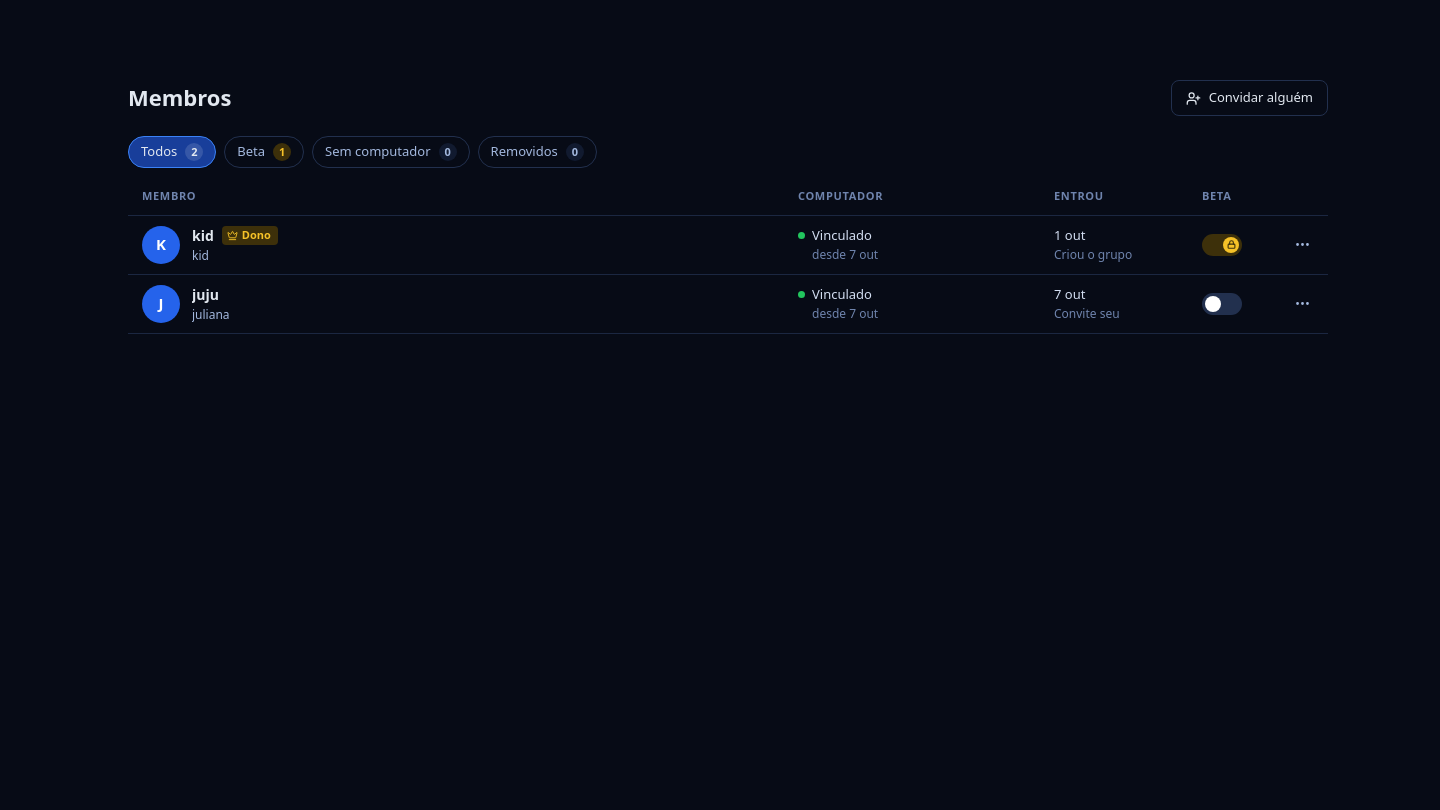
ações do membro › no dono não tem chave: só o selo
Click the button with aria-label "Detalhes de kid" at {"x": 161, "y": 244}, box [142,226,782,264]
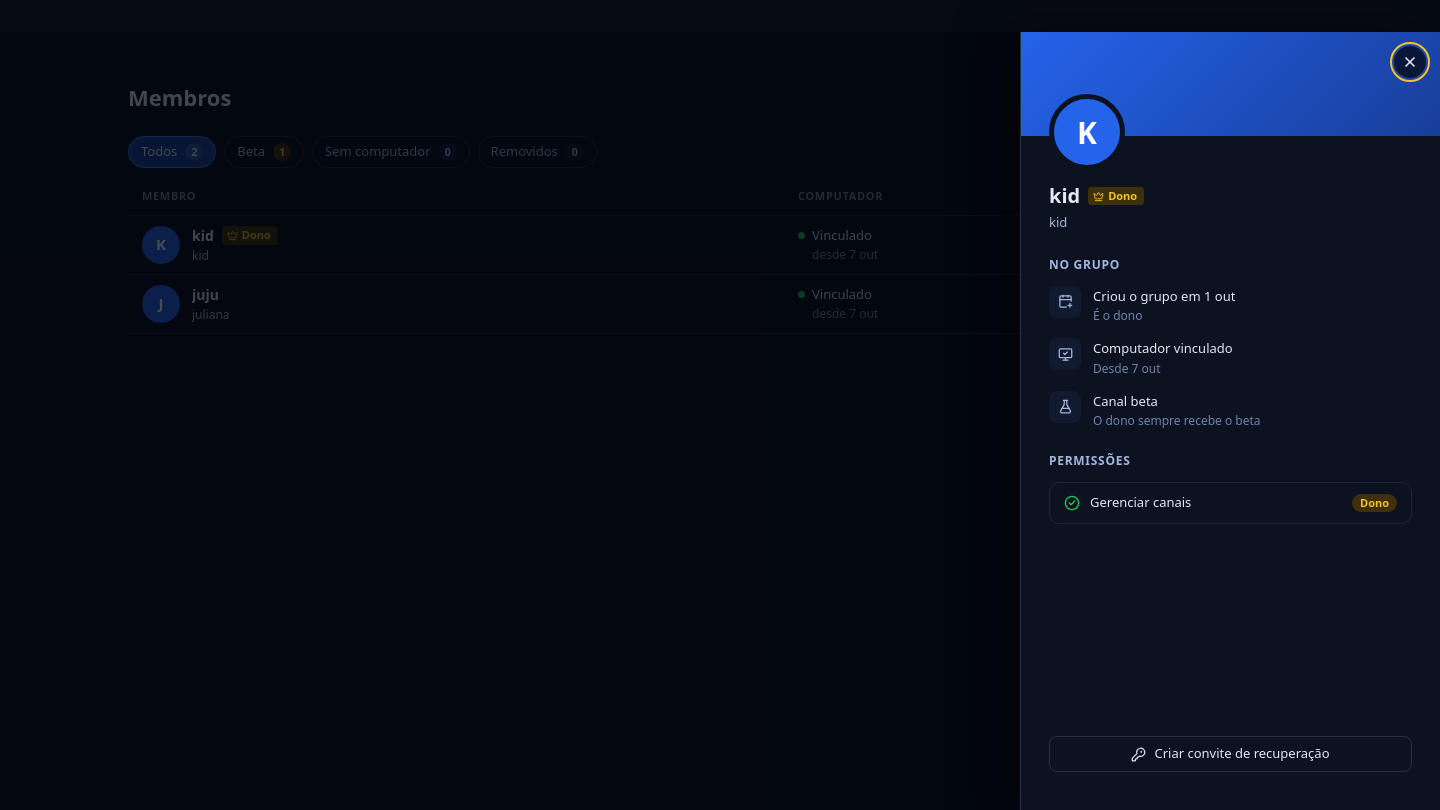
Now the text "Gerenciar canais" is shown, box [1090,493,1191,511]
Now the text "Dono" is shown, box [1352,494,1397,512]
